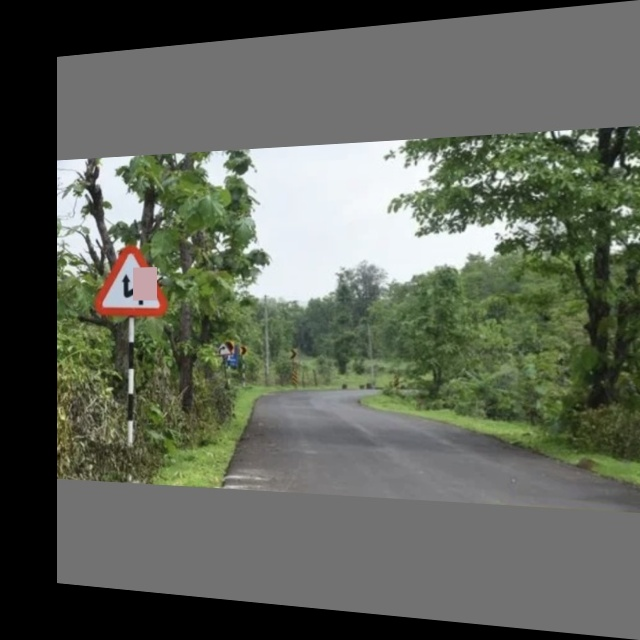Left_Reverse_Bend: (94, 242, 165, 318)
